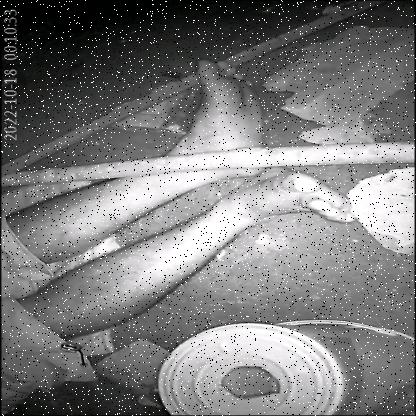leg: (26, 162, 359, 298), (14, 53, 269, 190)
